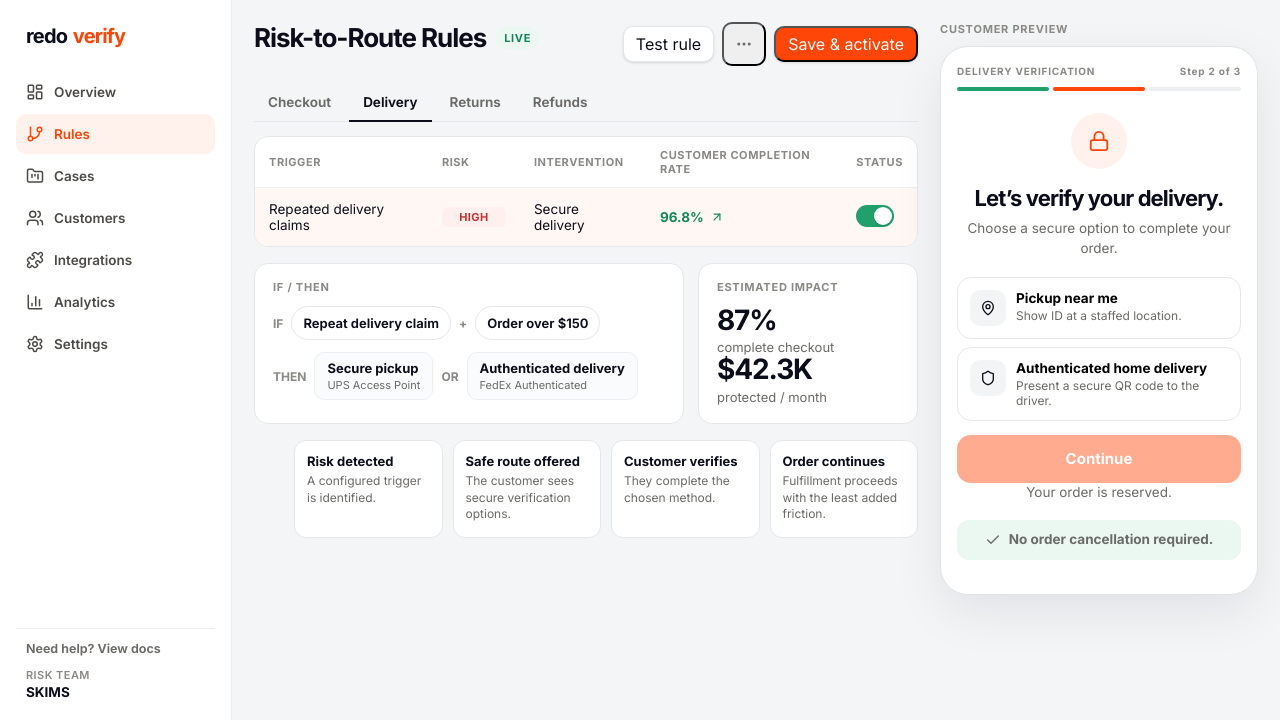
Test: interview demo › opens Redo Verify on the delivery rule and completes a customer choice
Expected: the heading "Risk-to-Route Rules" is shown, [254,22,486,53]
Expected: the heading "Let’s verify your delivery." is shown, [957,185,1241,211]
Click the button "Pickup near me Show ID at a staffed location.".
click(1099, 308)  # box [957,276,1241,338]
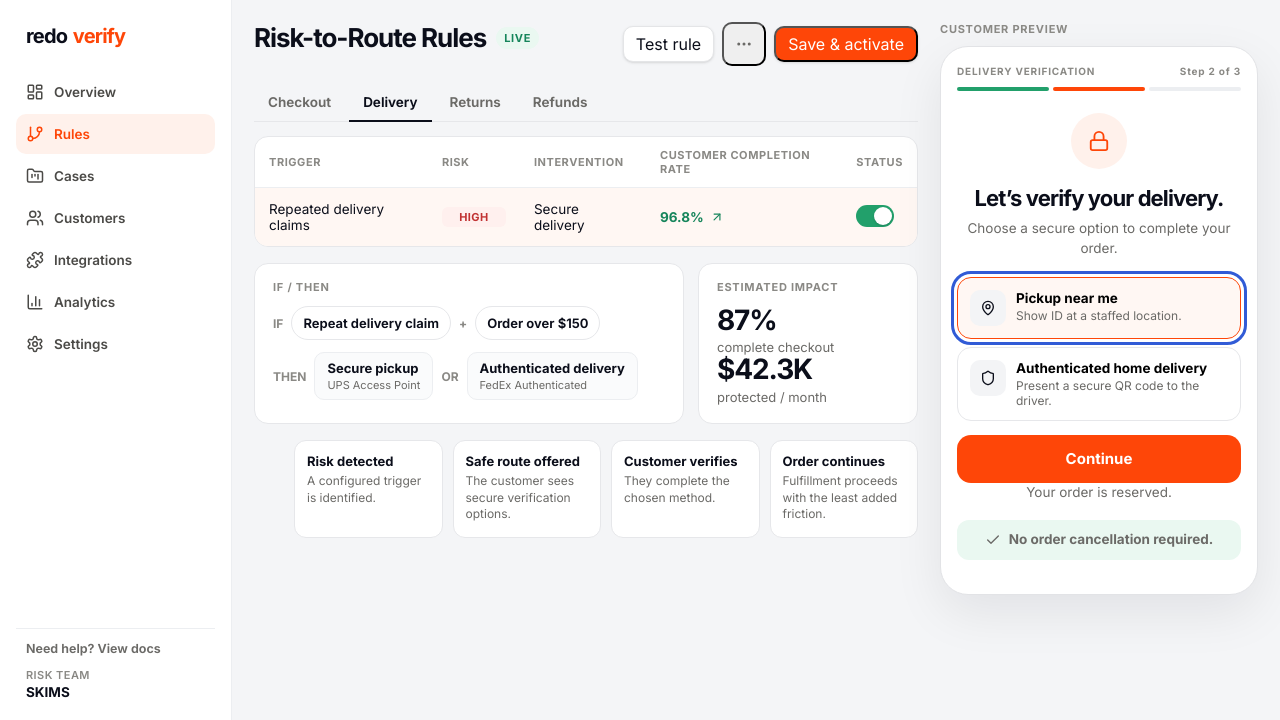
Click the button "Continue".
click(1099, 458)  # box [957,434,1241,482]
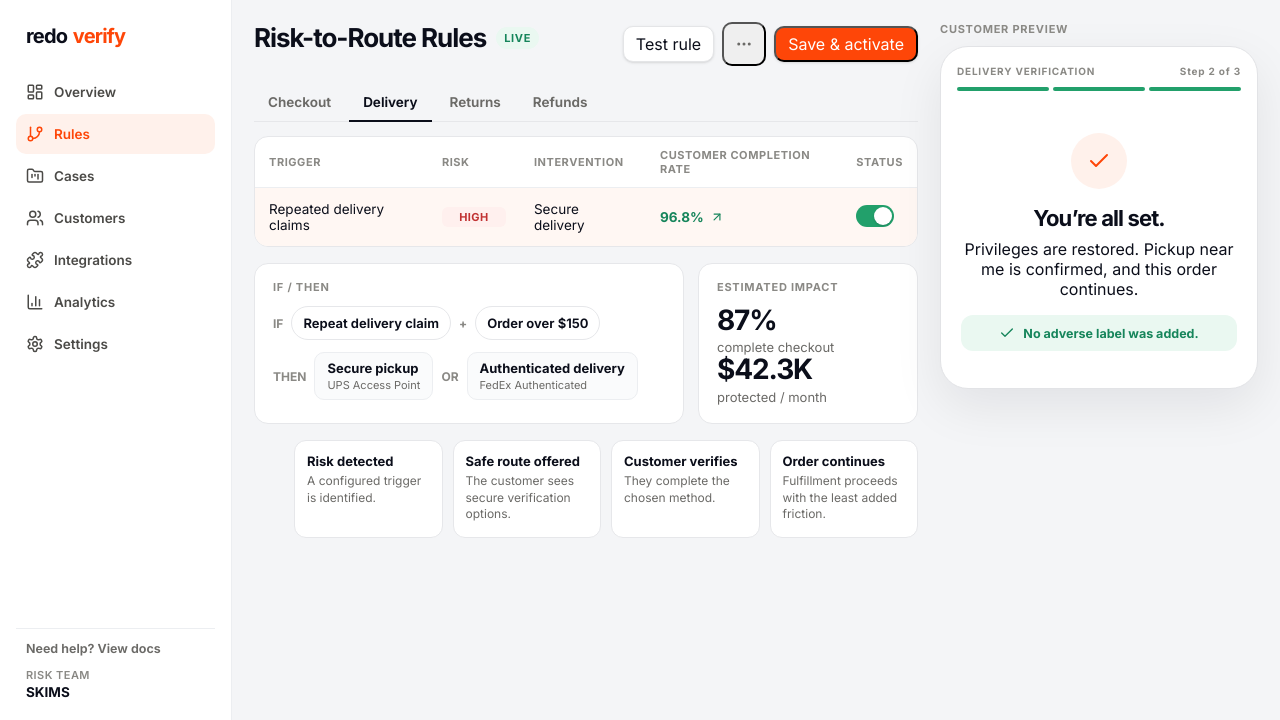
Result: the heading "You’re all set." is shown at [1033,205,1165,231]
